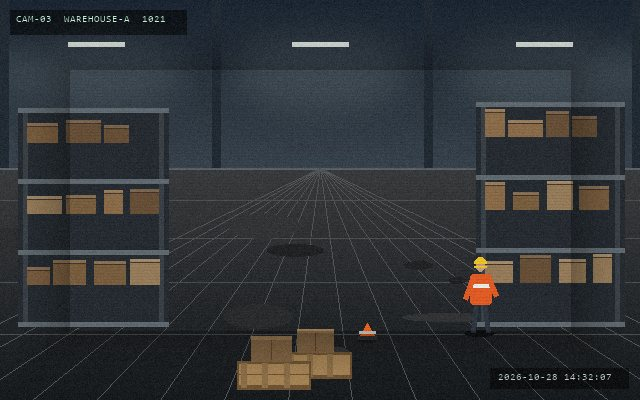cone: (357, 321, 377, 342)
pallet: (235, 359, 312, 391), (282, 350, 353, 380)
person: (464, 256, 498, 335)
shelf: (476, 102, 624, 322), (18, 108, 168, 322)
